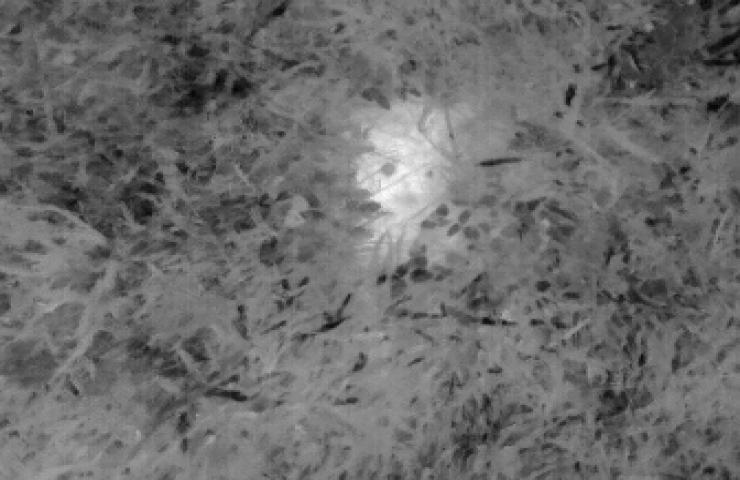landmines: (351, 114, 462, 220)
